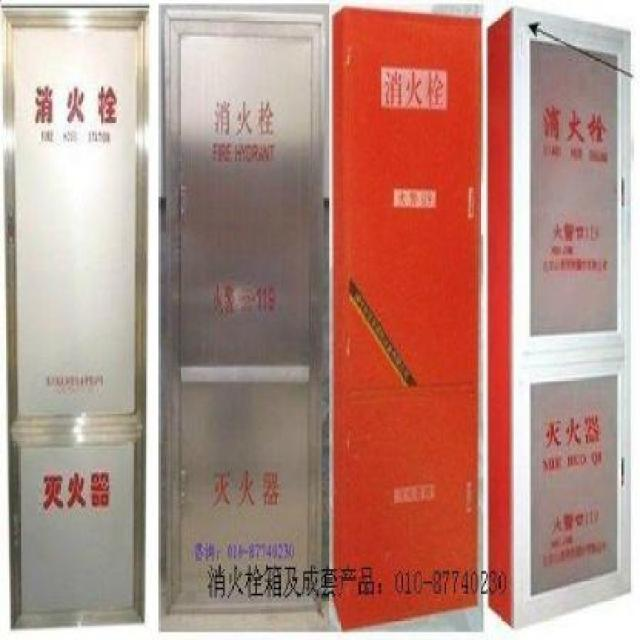firehydrant: (157, 0, 331, 640), (329, 0, 484, 632), (486, 3, 636, 639), (1, 0, 150, 632)
